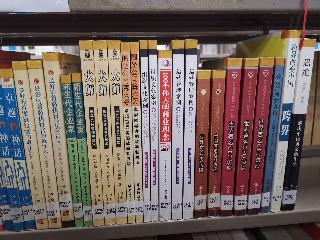book-spine: (11, 60, 49, 231), (280, 37, 316, 213), (40, 51, 75, 229), (1, 68, 37, 232), (269, 28, 301, 212), (27, 57, 61, 230), (228, 57, 260, 218), (78, 39, 105, 227), (245, 56, 275, 217), (93, 40, 117, 226), (216, 58, 243, 219), (259, 56, 285, 215), (106, 40, 128, 225), (70, 72, 94, 227), (60, 74, 84, 228), (181, 39, 197, 219), (207, 69, 226, 218), (120, 41, 135, 225), (129, 42, 144, 223), (193, 72, 211, 219), (158, 49, 172, 221), (171, 40, 184, 219), (147, 40, 159, 224), (139, 40, 151, 223)
